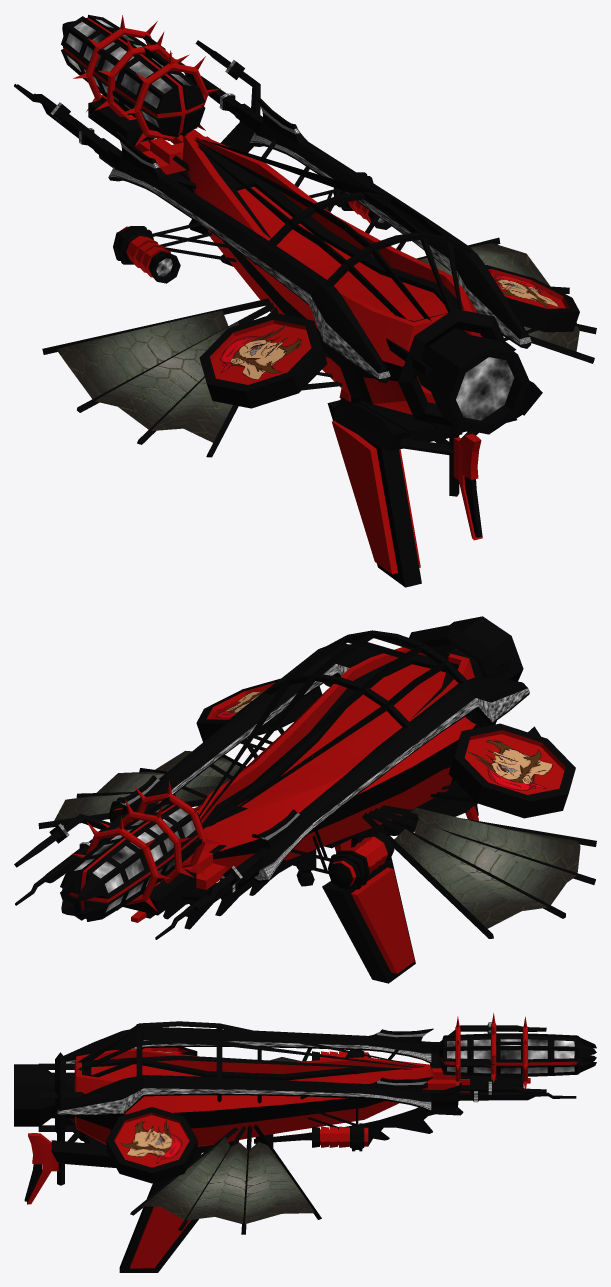
Rendered from P1ShipV3.fbx.
The picture shows the model from 3 angles, top to bottom: view 1: azimuth 30°, elevation 25°; view 2: azimuth 150°, elevation 25°; view 3: azimuth 270°, elevation 25°; orthographic projection. The views are drawn at different scales.
Parts seen in each view (by area): view 1: pCylinder1, pPlane20 (×2), pPlane4, pPlane2, pCylinder25, pPlane19, pCylinder44, pCylinder28, pCylinder56, pPlane3, pCylinder51, pTorus1 (+17 smaller); view 2: pCylinder1, pPlane20 (×2), pPlane4, pCylinder44, pCylinder28, pPlane19, pPlane2, pCylinder56, pCylinder51, pCylinder25, pPlane21, pCylinder3 (+19 smaller); view 3: pCylinder1, pPlane2, pPlane20, pPlane4, pCylinder44, pCylinder56, pCylinder3, pPlane19, pCylinder25, pCylinder51, pPlane6, pPlane3 (+18 smaller).
Boxes of the visible parts, x1=… form: pCylinder1: x1=182, y1=133, x2=482, y2=414; pPlane20 (×2): x1=56, y1=243, x2=579, y2=442; pPlane4: x1=14, y1=84, x2=390, y2=383; pPlane2: x1=175, y1=59, x2=531, y2=348; pCylinder25: x1=417, y1=328, x2=529, y2=434; pPlane19: x1=327, y1=397, x2=421, y2=587; pCylinder44: x1=61, y1=14, x2=205, y2=137; pCylinder28: x1=199, y1=313, x2=327, y2=408; pCylinder56: x1=195, y1=139, x2=462, y2=320; pPlane3: x1=333, y1=381, x2=542, y2=451; pCylinder51: x1=198, y1=144, x2=458, y2=321; pTorus1: x1=398, y1=309, x2=505, y2=425; pCylinder1: x1=185, y1=647, x2=477, y2=871; pPlane20 (×2): x1=54, y1=750, x2=580, y2=928; pPlane4: x1=155, y1=677, x2=529, y2=939; pCylinder44: x1=60, y1=801, x2=203, y2=921; pCylinder28: x1=448, y1=723, x2=575, y2=818; pPlane19: x1=322, y1=824, x2=415, y2=983; pPlane2: x1=15, y1=644, x2=382, y2=905; pCylinder56: x1=199, y1=631, x2=458, y2=827; pCylinder51: x1=202, y1=654, x2=459, y2=828; pCylinder25: x1=434, y1=616, x2=523, y2=681; pPlane21: x1=467, y1=739, x2=552, y2=790; pCylinder3: x1=196, y1=678, x2=322, y2=741; pCylinder1: x1=74, y1=1048, x2=436, y2=1146; pPlane2: x1=56, y1=1075, x2=576, y2=1116; pPlane20: x1=141, y1=1137, x2=314, y2=1224; pPlane4: x1=64, y1=1027, x2=441, y2=1063; pCylinder44: x1=438, y1=1033, x2=596, y2=1076; pCylinder56: x1=77, y1=1021, x2=423, y2=1077; pCylinder3: x1=106, y1=1107, x2=197, y2=1183; pPlane19: x1=119, y1=1140, x2=239, y2=1272; pCylinder25: x1=14, y1=1064, x2=75, y2=1126; pCylinder51: x1=82, y1=1057, x2=399, y2=1080; pPlane6: x1=254, y1=1107, x2=463, y2=1143; pPlane3: x1=51, y1=1118, x2=115, y2=1167.
Bounding box in the file's own units: 14.46 × 10.1 × 21.16.
